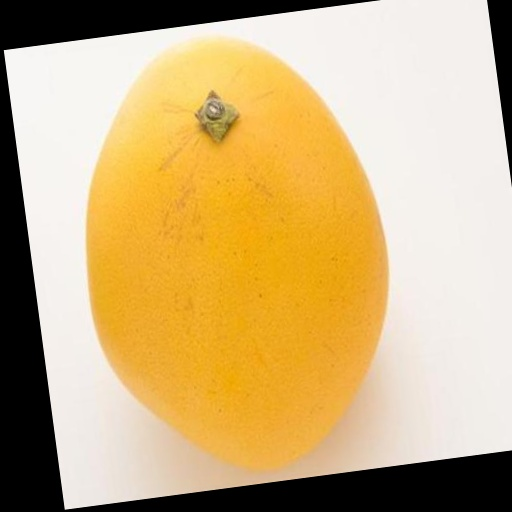fruit: (87, 38, 387, 469)
